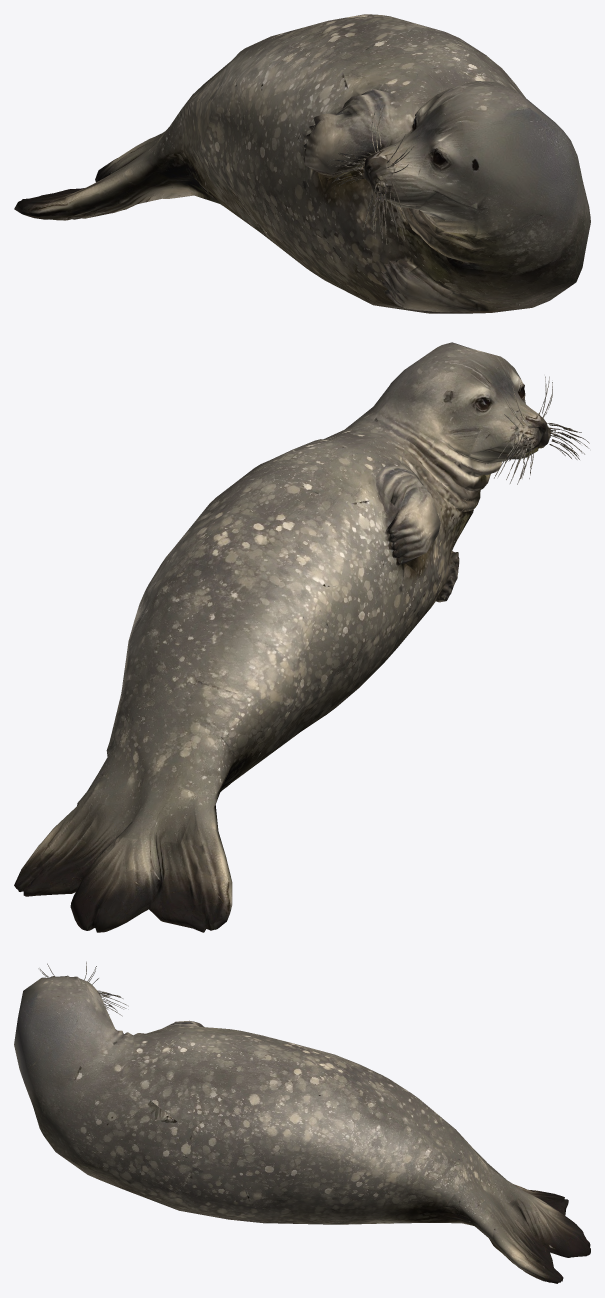
The model's file is harbor-seal.glb.
3 views of the same model, one above another, from view 1: azimuth 30°, elevation 25°; view 2: azimuth 150°, elevation 25°; view 3: azimuth 270°, elevation 25° (orthographic). The views are drawn at different scales.
Visible parts, largest first — view 1: mesh_0; view 2: mesh_0; view 3: mesh_0.
Part boxes in pixels (x1,y1,x2,y2): mesh_0: [14, 14, 590, 313]; mesh_0: [14, 342, 589, 932]; mesh_0: [14, 961, 590, 1283].
Bounding box in the file's own units: 0.6812 × 0.8405 × 1.7.
1 material, 1 textured.
